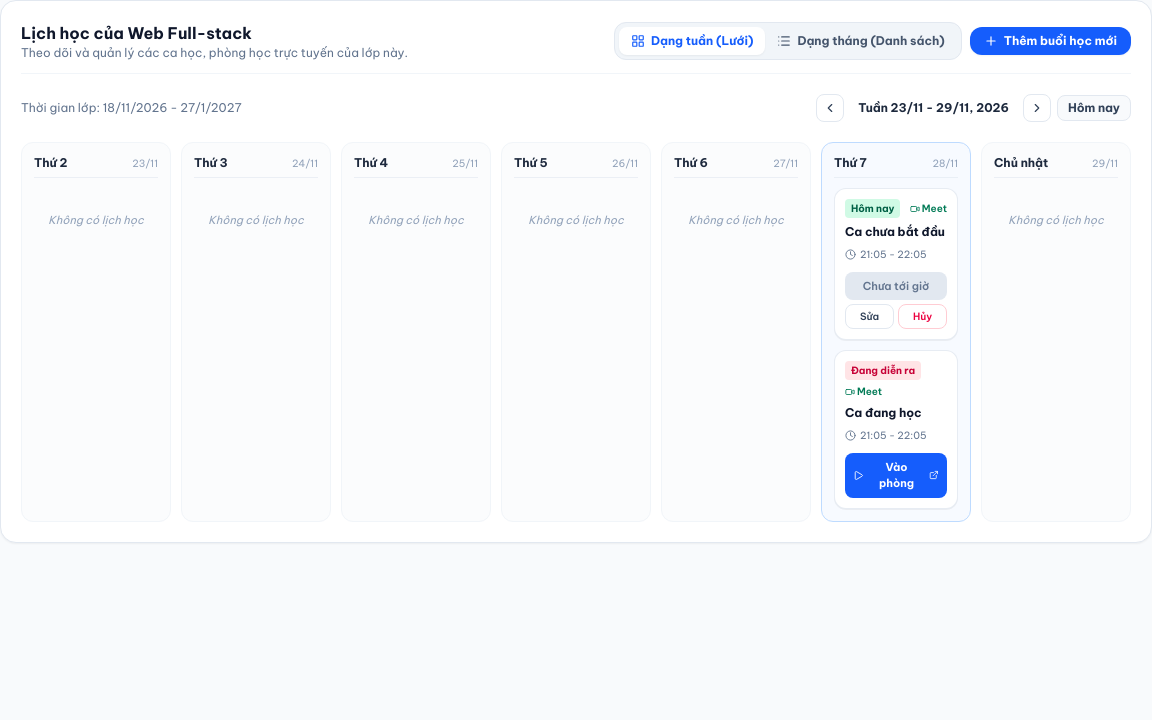
Test case: ClassSchedulePanel › hiển thị Chưa tới giờ khi giáo viên chưa bắt đầu và chỉ hiện Vào phòng khi LIVE đối với CENTER_MANAGER
This screenshot has width=1152, height=720.
expect the text "Ca chưa bắt đầu" is shown: met, box [845,224,947,240]
expect the button "Chưa tới giờ" is disabled: met, box [845,272,947,300]
Step 1. Click the button "Dạng tháng (Danh sách)" → (861, 41), box [765,27,957,55]
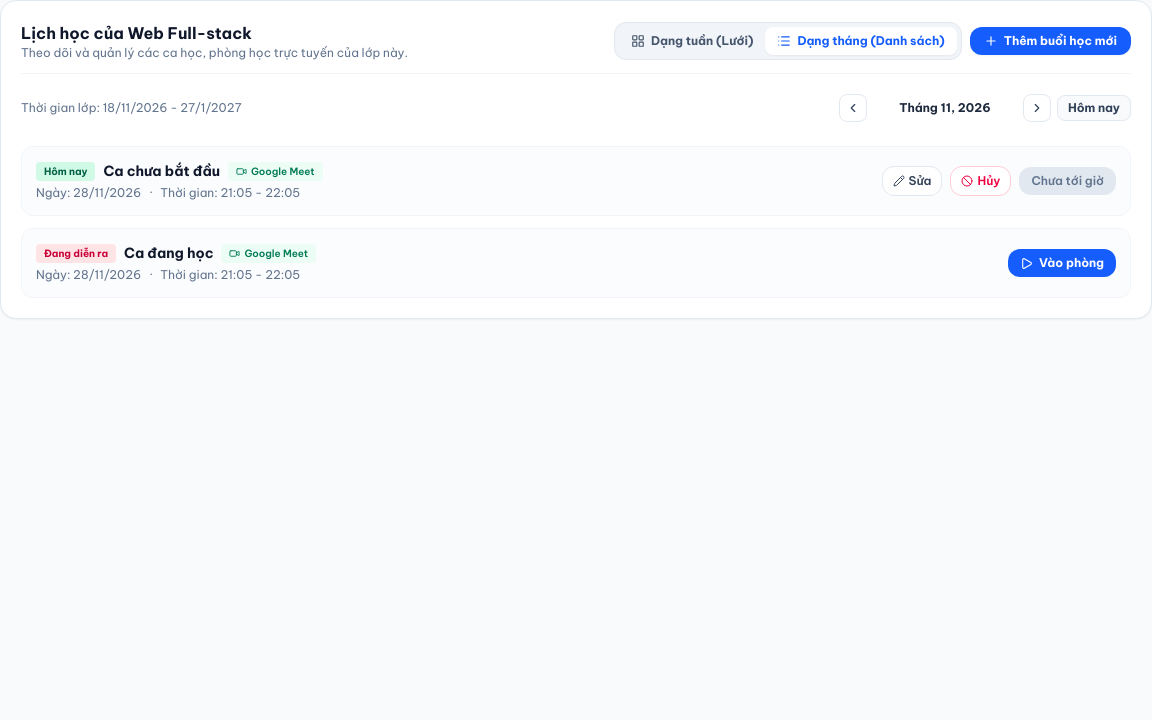
expect the button "Chưa tới giờ" is disabled: met, box [1019,167,1116,195]
expect the number of buttons "Vào phòng" is 1: met, box [1008,249,1116,277]
